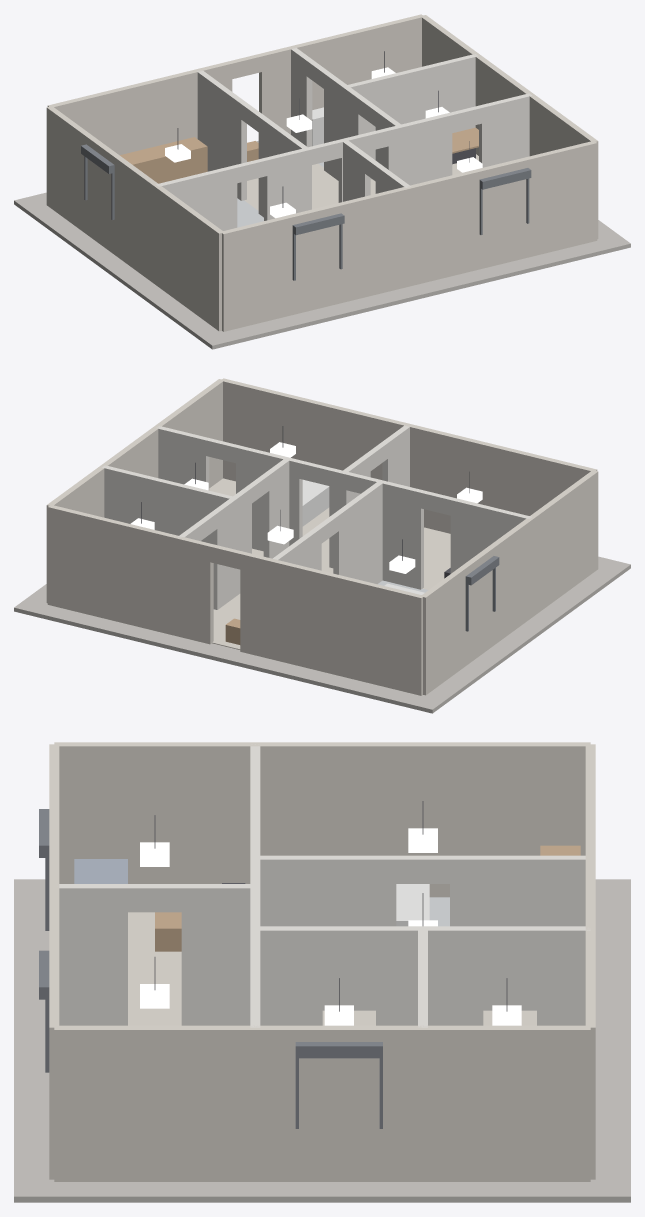
The model's file is maison-demo.glb.
3 renders of one model, top to bottom at view 1: azimuth 30°, elevation 25°; view 2: azimuth 150°, elevation 25°; view 3: azimuth 270°, elevation 25°, orthographic. The views are drawn at different scales.
Visible parts, largest first — view 1: facade_nord_0, facade_ouest_0, dalle, facade_sud_0, facade_sud_1, facade_est_0, cloison_bureau_bain_0, cloison_cuisine_entree_0, cloison_nuit_1, cloison_nuit_2, cloison_jour_0, cloison_jour_1 (+16 smaller); view 2: facade_nord_0, facade_sud_0, facade_ouest_0, facade_sud_1, dalle, facade_est_0, cloison_bureau_bain_0, cloison_cuisine_entree_1, cloison_jour_1, cloison_jour_0, cloison_entree_nuit_1, cloison_nuit_1 (+14 smaller); view 3: facade_est_0, facade_ouest_0, dalle, cloison_cuisine_entree_1, cloison_cuisine_entree_0, cloison_salon_chambre_0, cloison_entree_nuit_1, cloison_salon_chambre_1, cloison_entree_nuit_2, cloison_entree_nuit_0, sol_salon, facade_nord_0 (+16 smaller).
Part boxes in pixels (x1=…): facade_nord_0: x1=221, y1=140, x2=597, y2=331; facade_ouest_0: x1=46, y1=106, x2=222, y2=331; dalle: x1=14, y1=141, x2=630, y2=349; facade_sud_0: x1=47, y1=61, x2=232, y2=155; facade_sud_1: x1=259, y1=14, x2=423, y2=134; facade_est_0: x1=422, y1=15, x2=598, y2=238; cloison_bureau_bain_0: x1=345, y1=54, x2=478, y2=179; cloison_cuisine_entree_0: x1=197, y1=70, x2=246, y2=200; cloison_nuit_1: x1=385, y1=113, x2=452, y2=185; cloison_nuit_2: x1=479, y1=93, x2=531, y2=167; cloison_jour_0: x1=156, y1=165, x2=237, y2=230; cloison_jour_1: x1=264, y1=147, x2=311, y2=220; facade_nord_0: x1=221, y1=378, x2=597, y2=533; facade_sud_0: x1=240, y1=551, x2=423, y2=695; facade_ouest_0: x1=422, y1=470, x2=598, y2=695; facade_sud_1: x1=47, y1=504, x2=213, y2=644; dalle: x1=14, y1=556, x2=630, y2=713; facade_est_0: x1=46, y1=379, x2=222, y2=602; cloison_bureau_bain_0: x1=102, y1=465, x2=234, y2=543; cloison_cuisine_entree_1: x1=333, y1=481, x2=382, y2=584; cloison_jour_1: x1=376, y1=479, x2=423, y2=589; cloison_jour_0: x1=450, y1=498, x2=531, y2=573; cloison_entree_nuit_1: x1=212, y1=486, x2=251, y2=609; cloison_nuit_1: x1=236, y1=445, x2=302, y2=551; facade_est_0: x1=54, y1=1025, x2=590, y2=1181; facade_ouest_0: x1=54, y1=742, x2=590, y2=897; dalle: x1=14, y1=879, x2=630, y2=1202; cloison_cuisine_entree_1: x1=255, y1=855, x2=396, y2=1010; cloison_cuisine_entree_0: x1=450, y1=855, x2=585, y2=1010; cloison_salon_chambre_0: x1=181, y1=884, x2=250, y2=1025; cloison_entree_nuit_1: x1=376, y1=926, x2=483, y2=1025; cloison_salon_chambre_1: x1=59, y1=884, x2=127, y2=1025; cloison_entree_nuit_2: x1=255, y1=926, x2=322, y2=1025; cloison_entree_nuit_0: x1=537, y1=926, x2=590, y2=1025; sol_salon: x1=128, y1=912, x2=181, y2=1025; facade_nord_0: x1=49, y1=744, x2=59, y2=1179.
Size of the model in its own units: 11.2 by 2.6 by 9.2.
